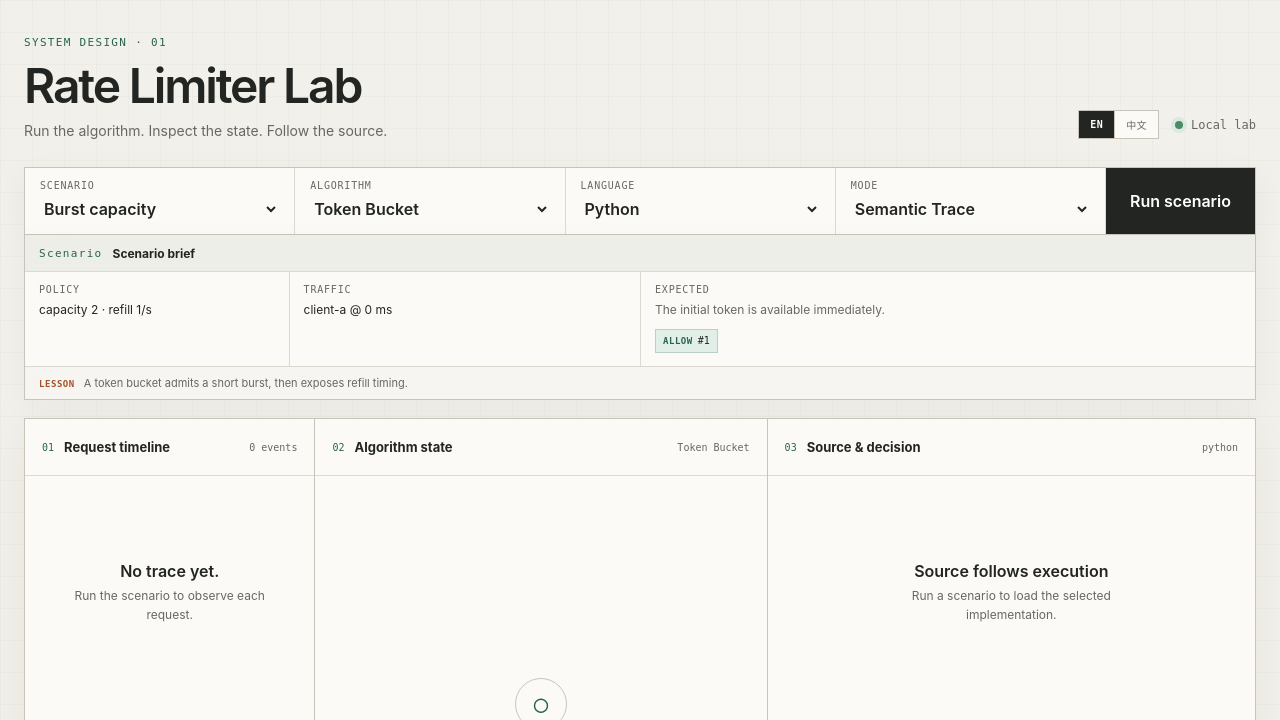
Rate Limiter Lab › ignores a stale semantic response after the selection changes
Click the button "Run scenario" at {"x": 1180, "y": 201}, box [1106, 168, 1255, 234]
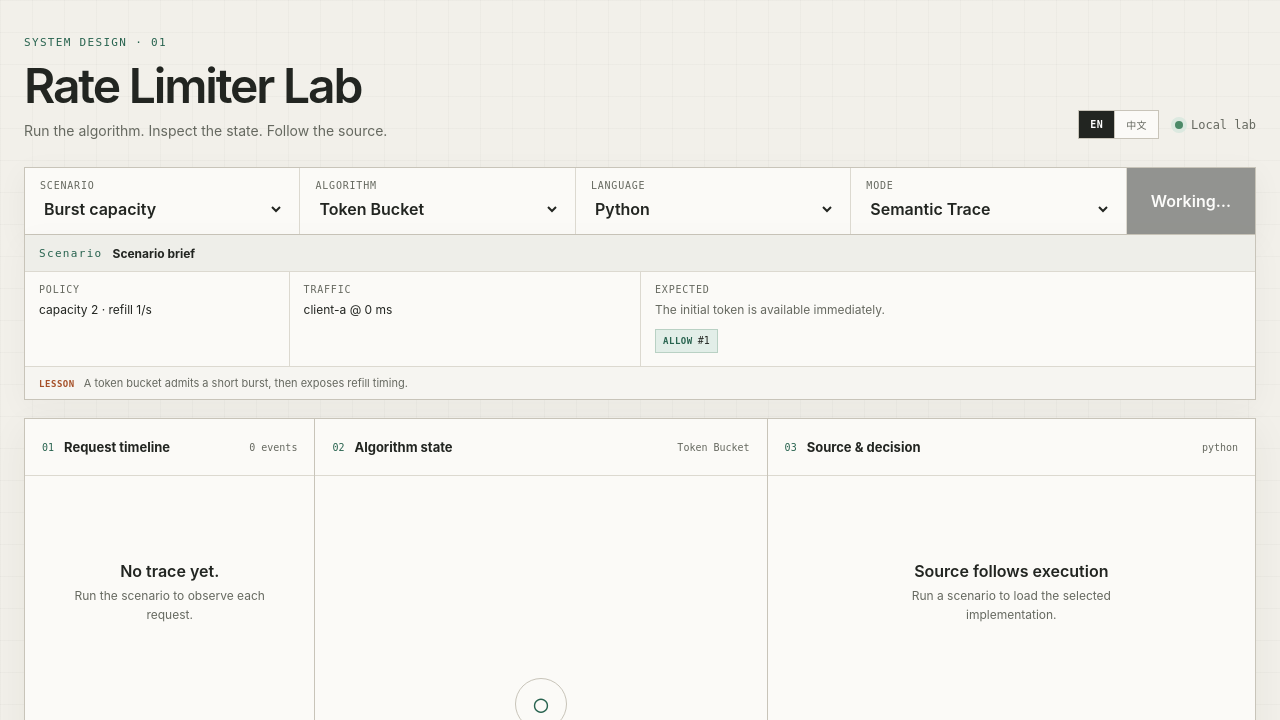
Select "Java" in the dropdown labelled "Language" at {"x": 713, "y": 209}, box [591, 195, 835, 223]
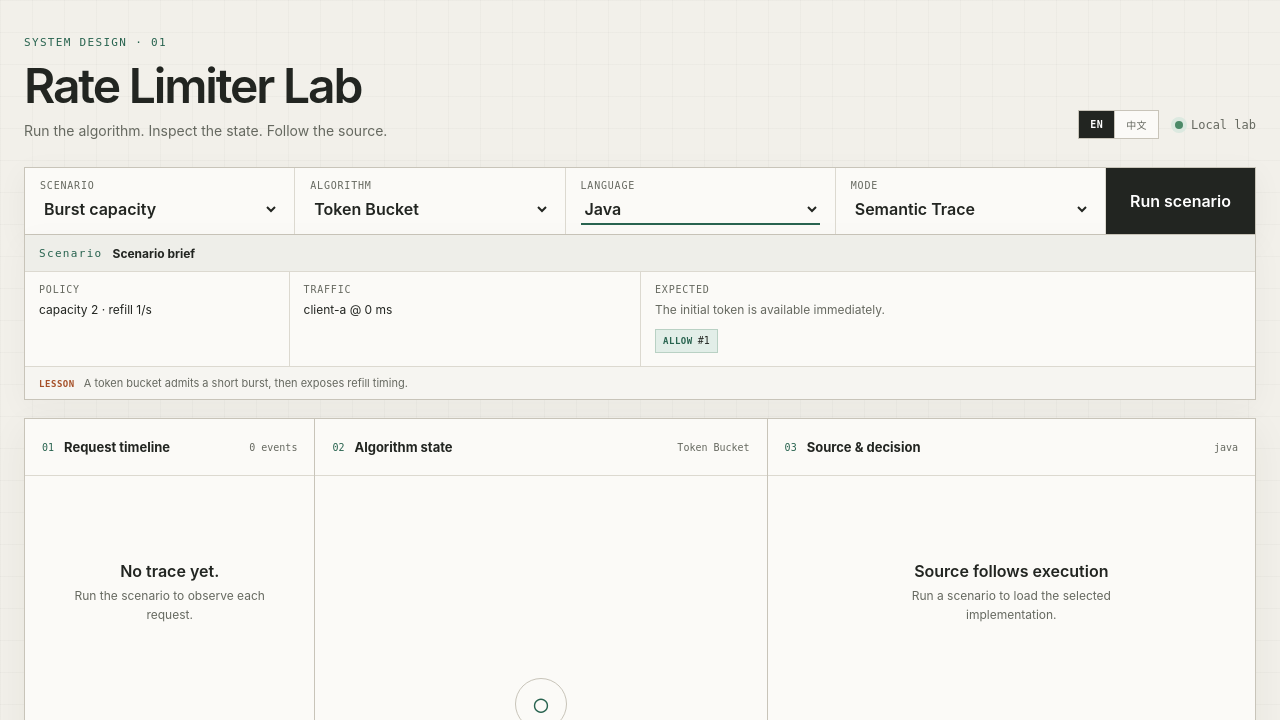
Check: the text "No trace yet." is shown, box [120, 561, 219, 581]
Check: the button "Run scenario" is enabled, box [1106, 168, 1255, 234]
